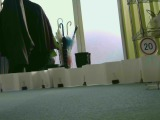speed_20: (139, 37, 158, 55)
